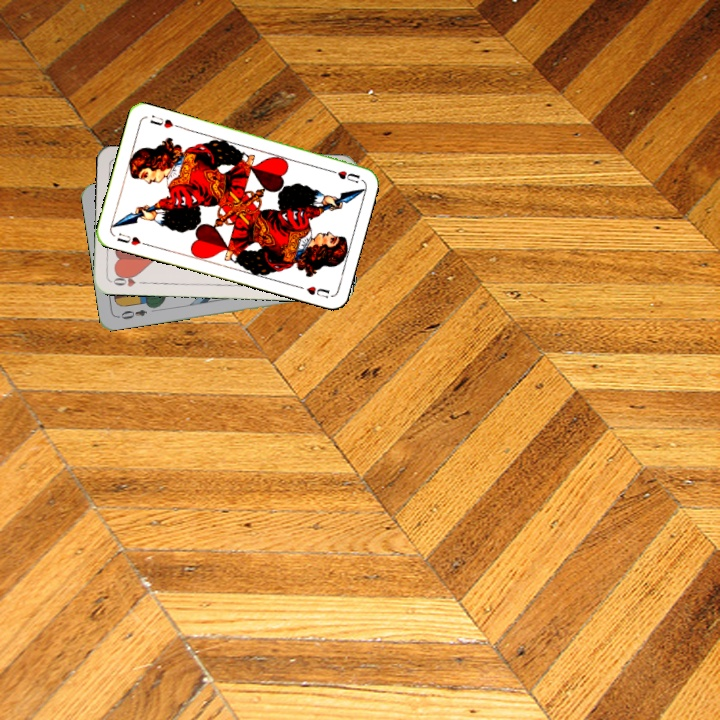EO: (114, 305, 150, 322)
HO: (108, 270, 148, 289)
HU: (324, 165, 362, 185), (113, 229, 150, 248)
